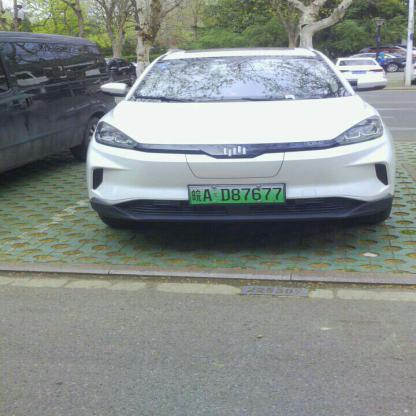lp: (188, 184, 284, 203)
